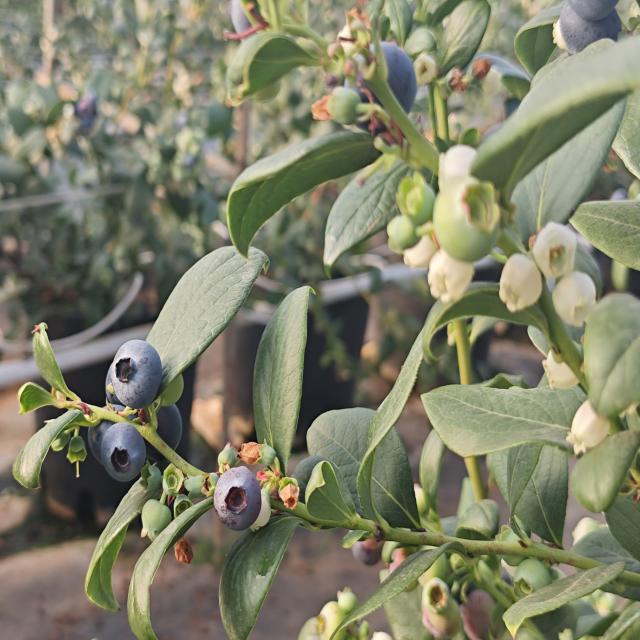ripe: (338, 23, 422, 136), (98, 330, 171, 415), (544, 0, 634, 55), (80, 400, 142, 470), (208, 464, 268, 532), (106, 413, 155, 472), (146, 400, 187, 467)
